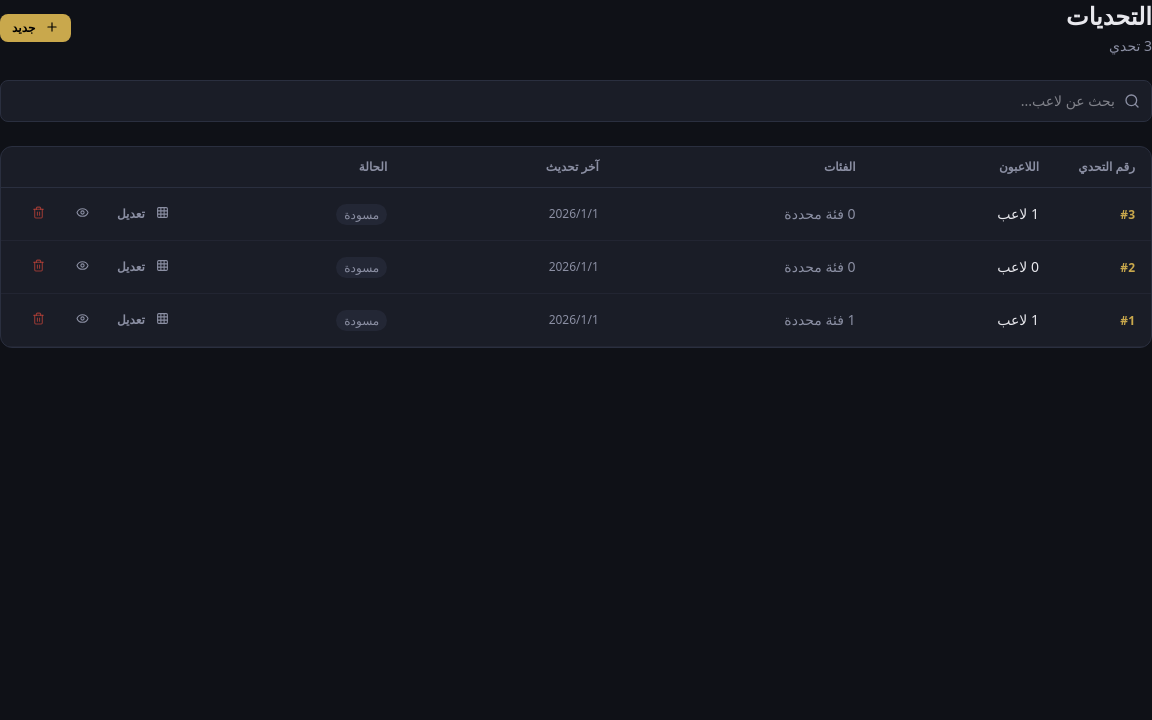
Challenges Page › opens editor modal when clicking a challenge
The width and height of the screenshot is (1152, 720).
Step 1. Click the button "#1" → x=1128, y=321, box [1120,313,1135,329]
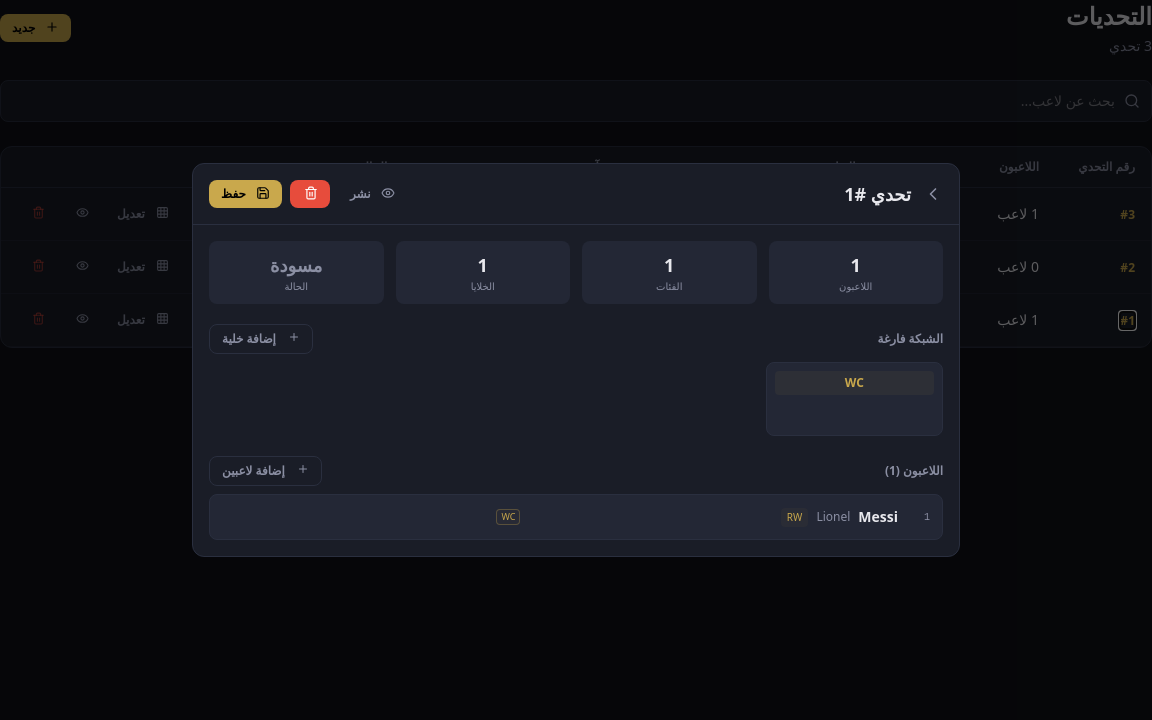
Expected: the heading "تحدي #1" is shown, [844,180,911,208]
